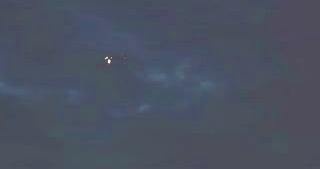Plane: (95, 53, 124, 68)
